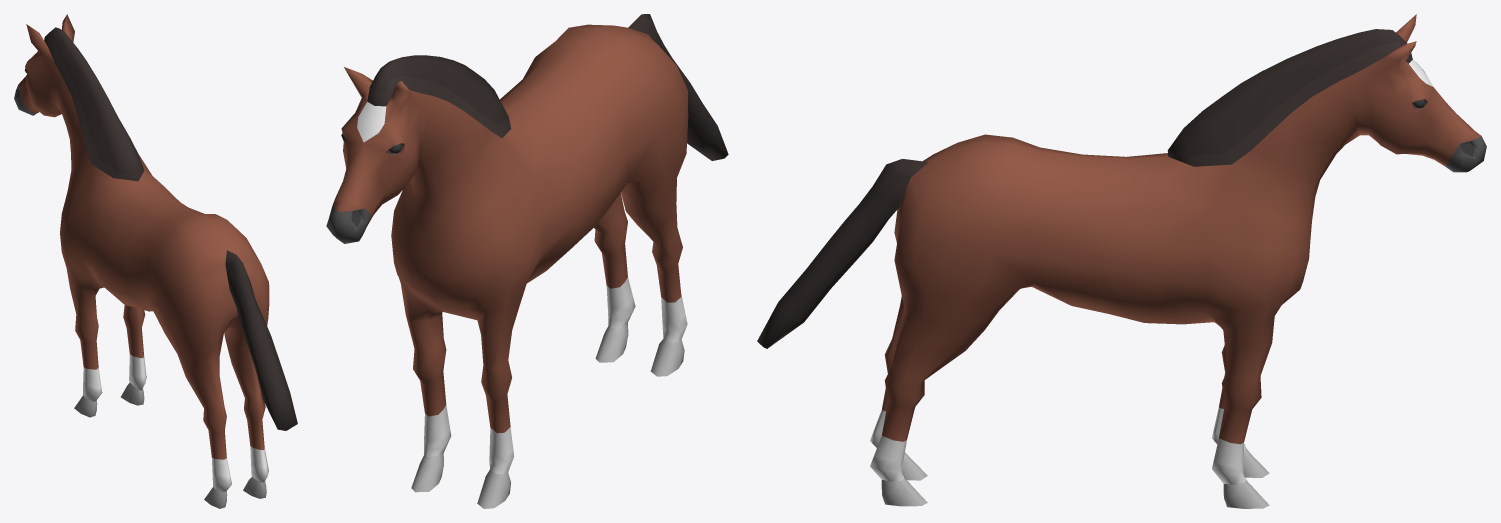
File: Horse.glb
3 renders of one model, left to right at view 1: azimuth 30°, elevation 25°; view 2: azimuth 150°, elevation 25°; view 3: azimuth 270°, elevation 25°, orthographic. The views are drawn at different scales.
Parts seen in each view (by area): view 1: horse_001; view 2: horse_001; view 3: horse_001.
Boxes of the visible parts, left/top/right/bottom form: horse_001: left=14, top=14, right=297, bottom=508; horse_001: left=326, top=14, right=728, bottom=508; horse_001: left=757, top=14, right=1486, bottom=508.
Bounding box in the file's own units: 0.55 × 1.86 × 2.66.
1 material, 1 textured.
